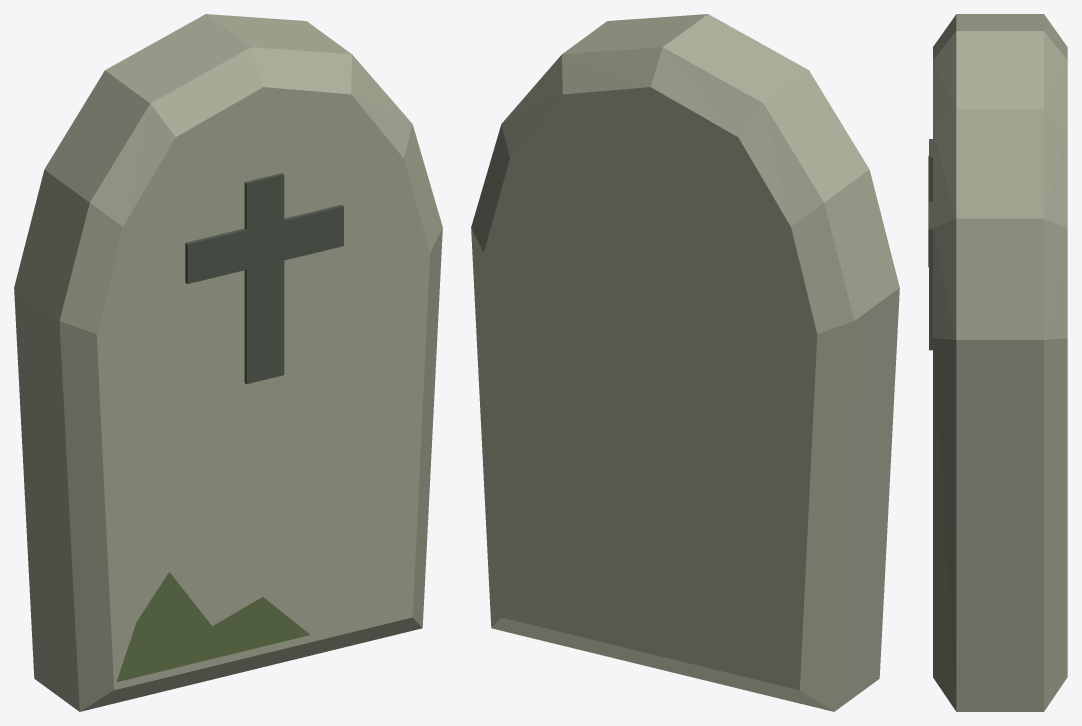
File: tombstone.glb
The picture shows the model from 3 angles, left to right: view 1: azimuth 30°, elevation 25°; view 2: azimuth 150°, elevation 25°; view 3: azimuth 270°, elevation 25°; orthographic projection. The views are drawn at different scales.
Parts seen in each view (by area): view 1: Stone, Moss, CrossStem, CrossArm; view 2: Stone; view 3: Stone, CrossStem, CrossArm.
Part boxes in pixels (x1,y1,x2,y2): Stone: (14,14,442,711); Moss: (116,572,309,682); CrossStem: (244,173,284,384); CrossArm: (185,205,343,283); Stone: (471,14,899,711); Stone: (933,14,1067,711); CrossStem: (929,139,932,350); CrossArm: (928,155,932,267).
Bounding box in the file's own units: 0.76 × 1.18 × 0.248.
